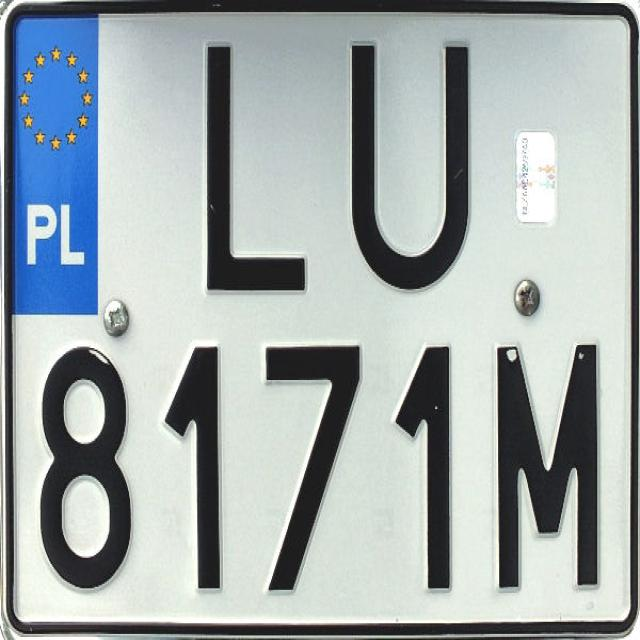pl_license_plate: (13, 14, 630, 618)
